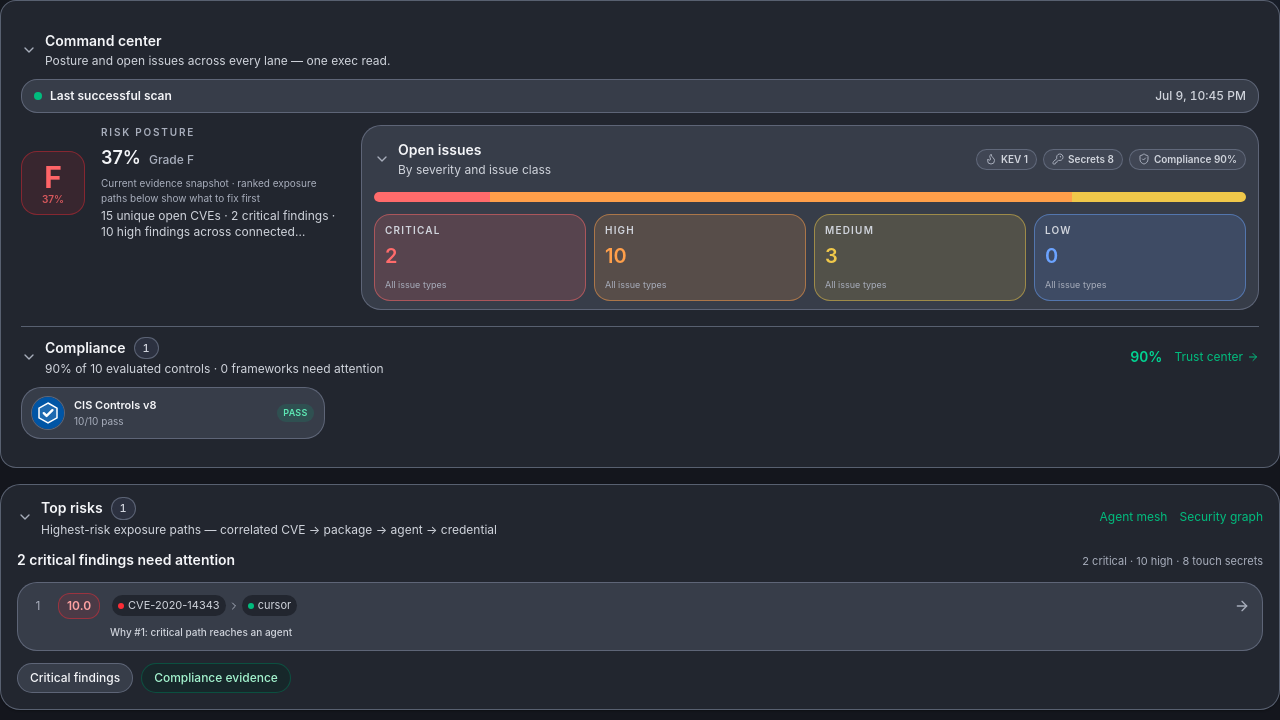
Test case: OverviewCockpit › lets operators collapse overview sections
Expected: the text "CIS Controls v8" is shown, [74,398,156,412]
What coordinates should you click on to do the following:
click the button "Compliance"
I would click on:
 (85, 347)
Its box is [21,336,1122,377].
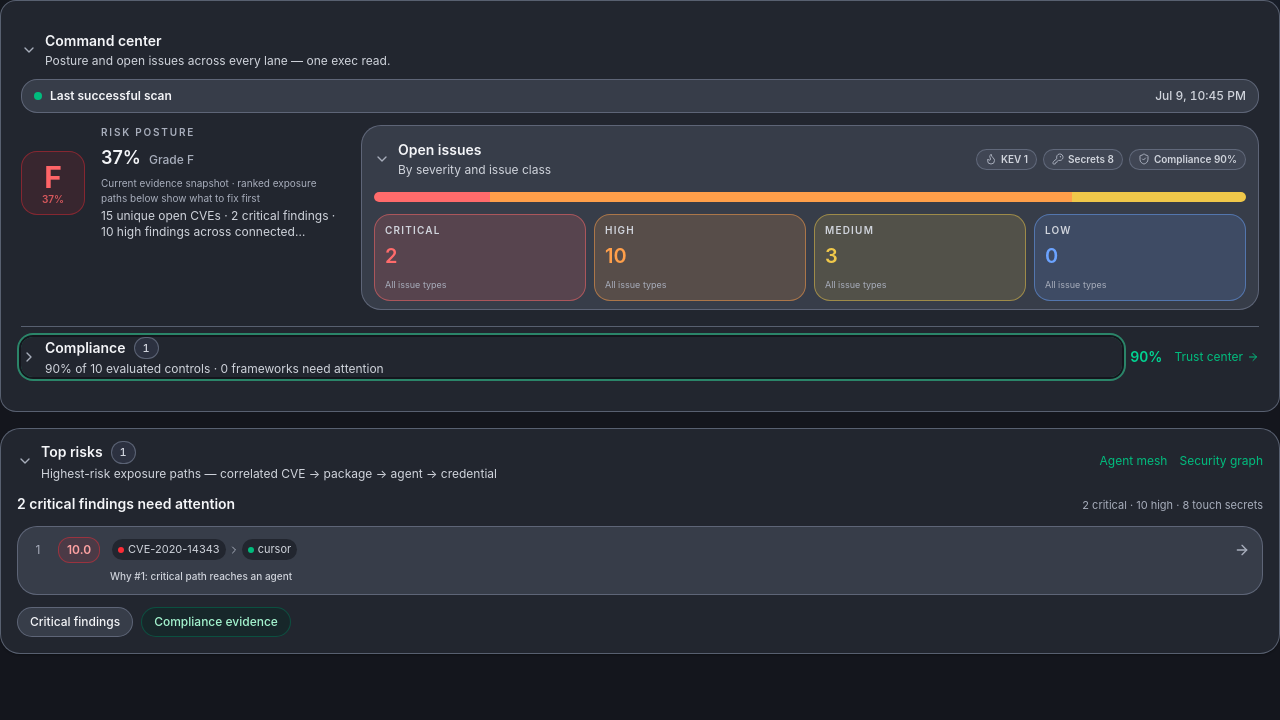
Now the link "CIS Controls v8" is gone
